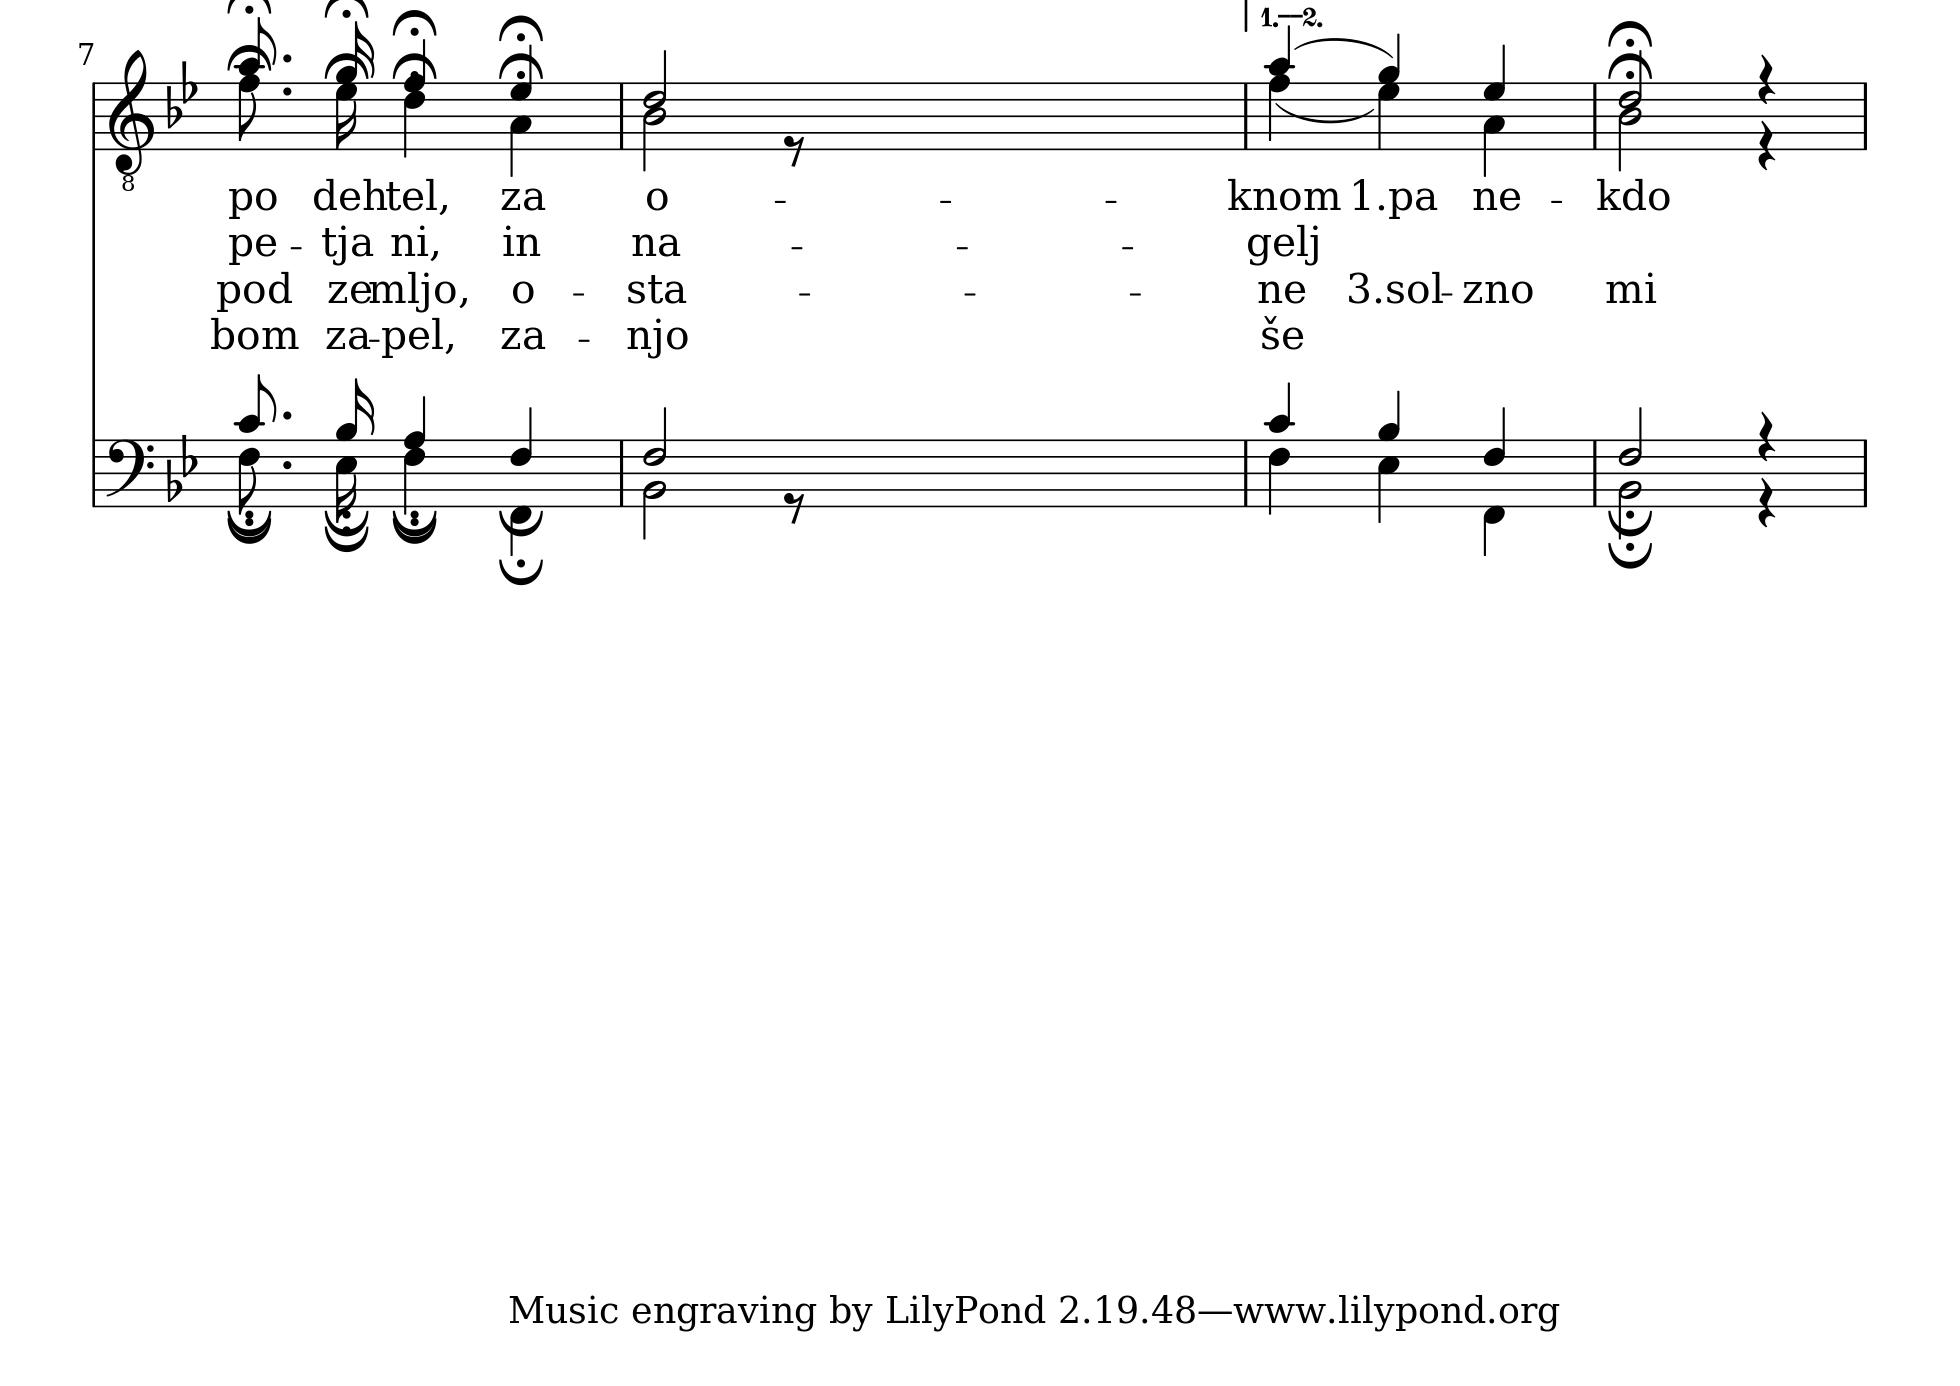16_5_9: (334, 376, 376, 523)
16_7_9: (334, 21, 375, 151)
2_2_6: (640, 408, 669, 541), (1617, 408, 1644, 540)
2_4_6: (642, 49, 669, 172)
4_-1_6: (508, 406, 534, 556), (1482, 409, 1507, 558)
4_3_7: (1482, 45, 1509, 178), (508, 43, 534, 178)
4_4_6: (1617, 52, 1645, 174)
4_5_9: (1377, 391, 1402, 525)
4_6_10: (1267, 379, 1296, 516)
4_6_8: (402, 394, 427, 517), (403, 39, 427, 159)
4_7_9: (1377, 31, 1402, 148)
4_8_10: (1263, 25, 1296, 153)
7: (76, 37, 96, 67)
8_6_10: (235, 372, 277, 511)
B_F: (165, 58, 198, 127), (165, 433, 196, 502)
Fclef: (103, 436, 153, 508)
Fermata_above: (319, 508, 372, 549), (222, 508, 277, 544), (388, 508, 442, 543), (498, 12, 546, 46), (1605, 49, 1656, 81), (493, 507, 547, 535), (1606, 538, 1656, 568), (496, 555, 546, 585), (1608, 18, 1654, 49), (496, 49, 544, 79), (1608, 508, 1656, 538), (391, 7, 438, 37), (223, 46, 274, 70), (324, 1, 370, 21)
Lower_Gclef: (106, 49, 153, 192)
Rests4: (1753, 46, 1776, 106), (1755, 118, 1776, 175), (1755, 406, 1776, 463), (1755, 475, 1776, 529)
Rests8: (781, 487, 808, 523)
Single_barline: (1855, 81, 1875, 148), (1855, 438, 1875, 505), (85, 439, 102, 505), (613, 82, 630, 147), (1239, 82, 1255, 147), (613, 439, 630, 504), (1239, 439, 1254, 505), (1587, 439, 1602, 504), (1587, 82, 1602, 144), (87, 82, 100, 148)
Slur: (1272, 103, 1372, 126), (1294, 37, 1395, 58), (319, 52, 372, 76)
dot: (279, 52, 295, 67), (280, 84, 295, 96), (279, 457, 294, 469)
